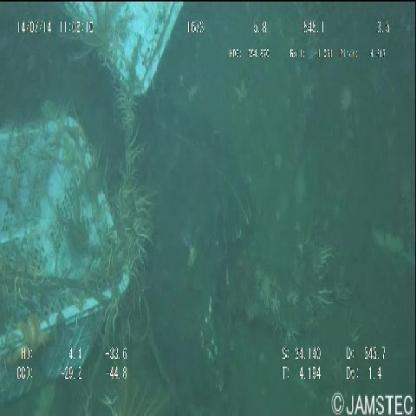Rác: (1, 2, 191, 398)
